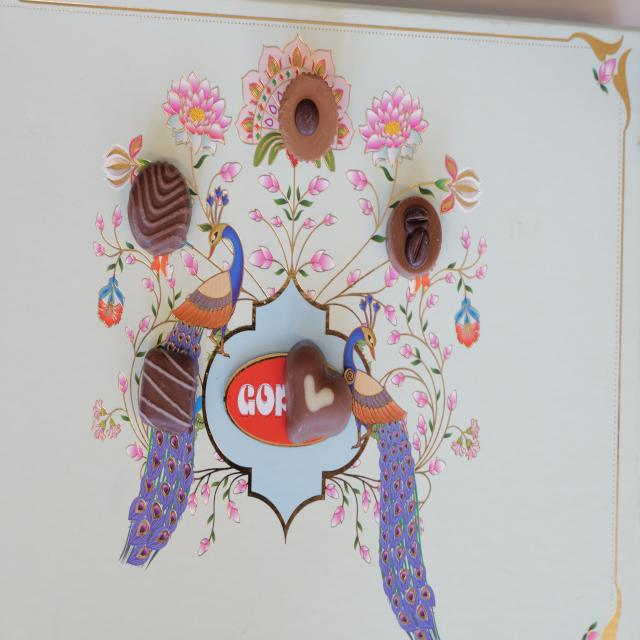Arabia: (387, 195, 442, 278)
Noblesse: (279, 74, 340, 162)
Noir_authentique: (127, 162, 191, 255)
Passion_au_lait: (284, 342, 352, 446)
Stracciatella: (138, 347, 197, 435)
